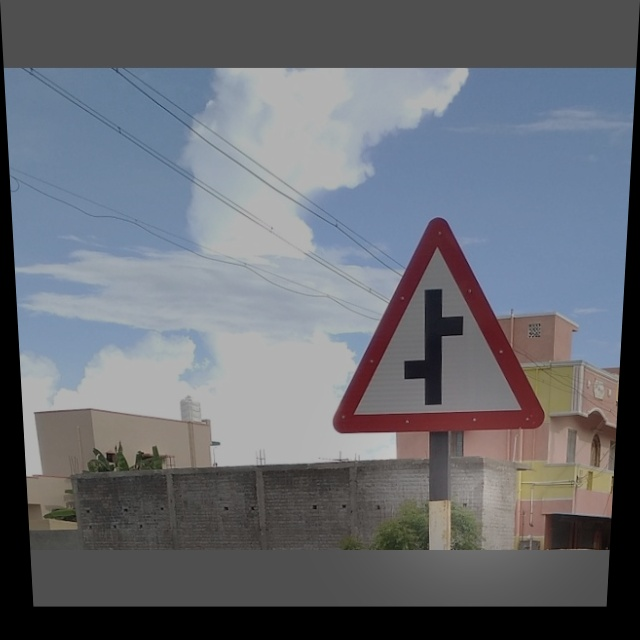Staggered_Intersection: (327, 216, 558, 441)
